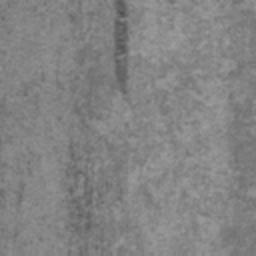Oxide scale of plate system: (111, 0, 132, 96)
